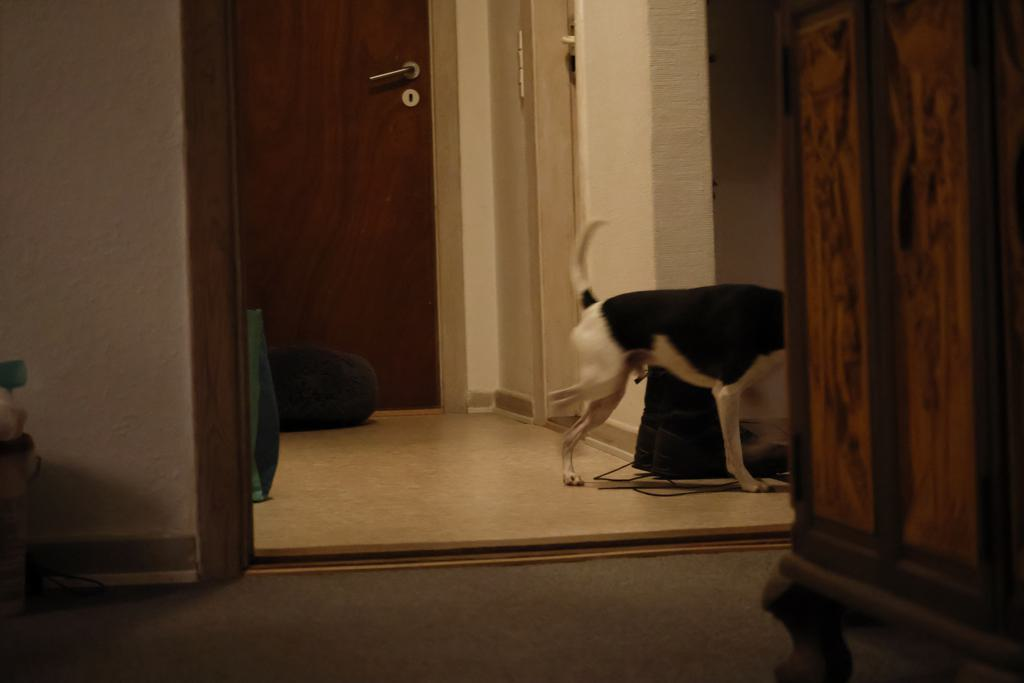Dog: (535, 208, 796, 500)
